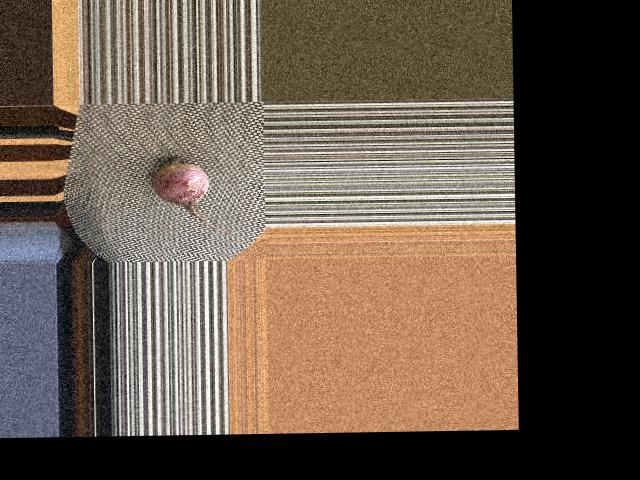beet: (151, 154, 234, 235)
